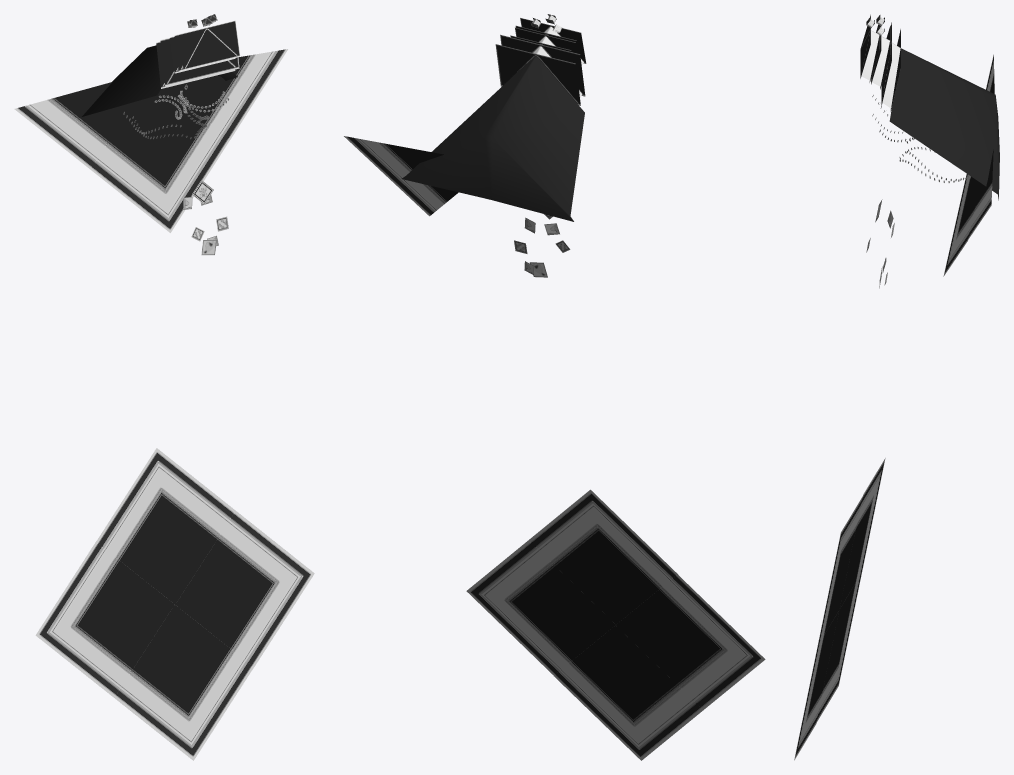
3 renders of one model, left to right at view 1: azimuth 30°, elevation 25°; view 2: azimuth 150°, elevation 25°; view 3: azimuth 270°, elevation 25°, orthographic. The views are drawn at different scales.
Visible parts, largest first — view 1: bordo_01.1 (×2), bordo_01 (×2), bordo_01.3 (×2), bordo_01.2, nero, topgrande2, topgrande2.4; view 2: nero, bordo_01.3 (×2), bordo_01, bordo_01.1, bordo_01.2, topgrande2.5, topgrande2.4; view 3: nero, bordo_01.1 (×2), bordo_01.3 (×2), bordo_01.2, bordo_01, no_alpha.2, no_alpha.1, no_alpha.
Part boxes in pixels (x1=…): bordo_01.1 (×2): x1=90, y1=88, x2=253, y2=760; bordo_01 (×2): x1=14, y1=82, x2=174, y2=697; bordo_01.3 (×2): x1=166, y1=49, x2=314, y2=666; bordo_01.2: x1=96, y1=448, x2=235, y2=604; nero: x1=82, y1=45, x2=237, y2=116; topgrande2: x1=179, y1=20, x2=240, y2=70; topgrande2.4: x1=160, y1=38, x2=239, y2=86; nero: x1=401, y1=56, x2=584, y2=221; bordo_01.3 (×2): x1=344, y1=136, x2=615, y2=675; bordo_01: x1=615, y1=574, x2=765, y2=709; bordo_01.1: x1=554, y1=625, x2=703, y2=760; bordo_01.2: x1=529, y1=489, x2=677, y2=624; topgrande2.5: x1=495, y1=44, x2=580, y2=105; topgrande2.4: x1=500, y1=34, x2=585, y2=96; nero: x1=889, y1=48, x2=999, y2=200; bordo_01.1 (×2): x1=794, y1=174, x2=980, y2=760; bordo_01.3 (×2): x1=816, y1=149, x2=993, y2=722; bordo_01.2: x1=839, y1=458, x2=885, y2=608; bordo_01: x1=817, y1=497, x2=862, y2=645; no_alpha.2: x1=882, y1=42, x2=900, y2=108; no_alpha.1: x1=872, y1=36, x2=889, y2=86; no_alpha: x1=861, y1=30, x2=879, y2=80.
Bounding box in the file's own units: 1738 × 3637 × 883.
Materials: 13 (11 with a texture image).
